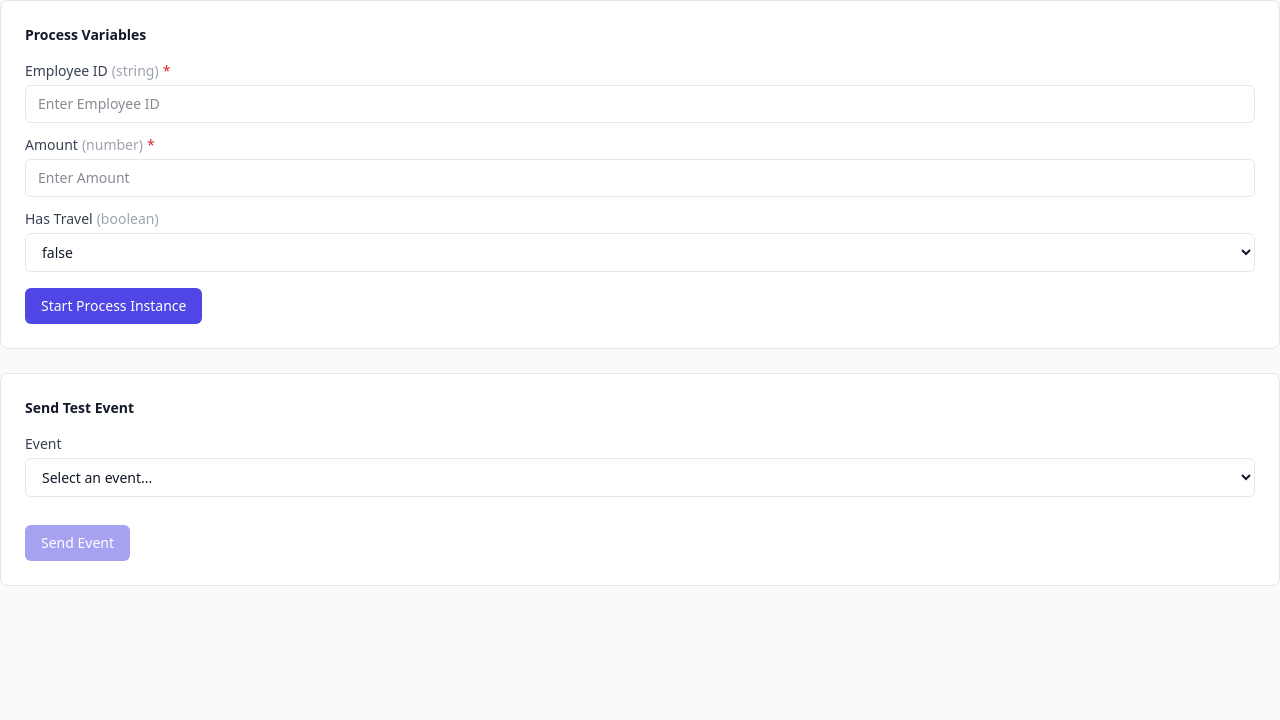
Test case: SpawnForm › shows event parameter inputs when event selected
Select "Expense Submitted (expense-submitted)" in the dropdown below "Send Test Event" at point(640, 478), box [25,458,1255,497]
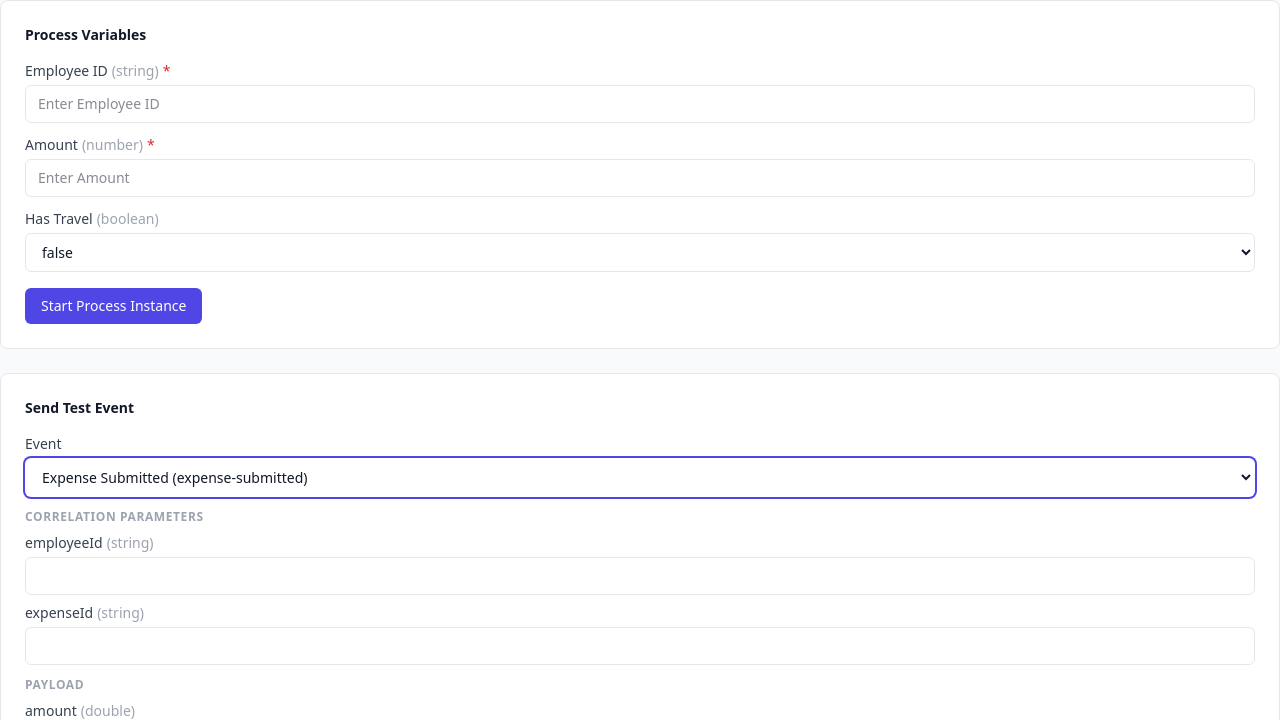
Check: the text "Correlation Parameters" is shown, box [25,508,204,525]
Check: the text "Payload" is shown, box [25,676,84,693]
